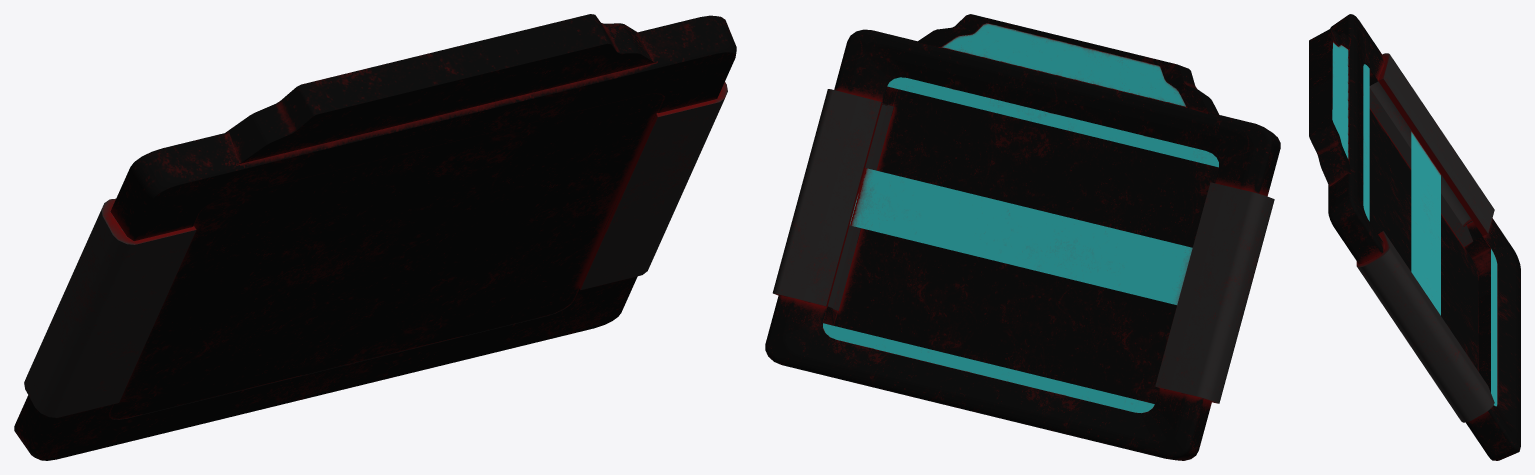
Rendered from PDA.fbx.
3 views of the same model, side by side, from view 1: azimuth 30°, elevation 25°; view 2: azimuth 150°, elevation 25°; view 3: azimuth 270°, elevation 25° (orthographic). The views are drawn at different scales.
Visible parts, largest first — view 1: polySurface22; view 2: polySurface22; view 3: polySurface22.
Boxes of the visible parts, bbox=[...] form: polySurface22: bbox=[14, 14, 736, 460]; polySurface22: bbox=[765, 14, 1280, 460]; polySurface22: bbox=[1309, 14, 1520, 460].
Bounding box in the file's own units: 0.2425 × 0.1636 × 0.1072.
Materials: 1 (1 with a texture image).
